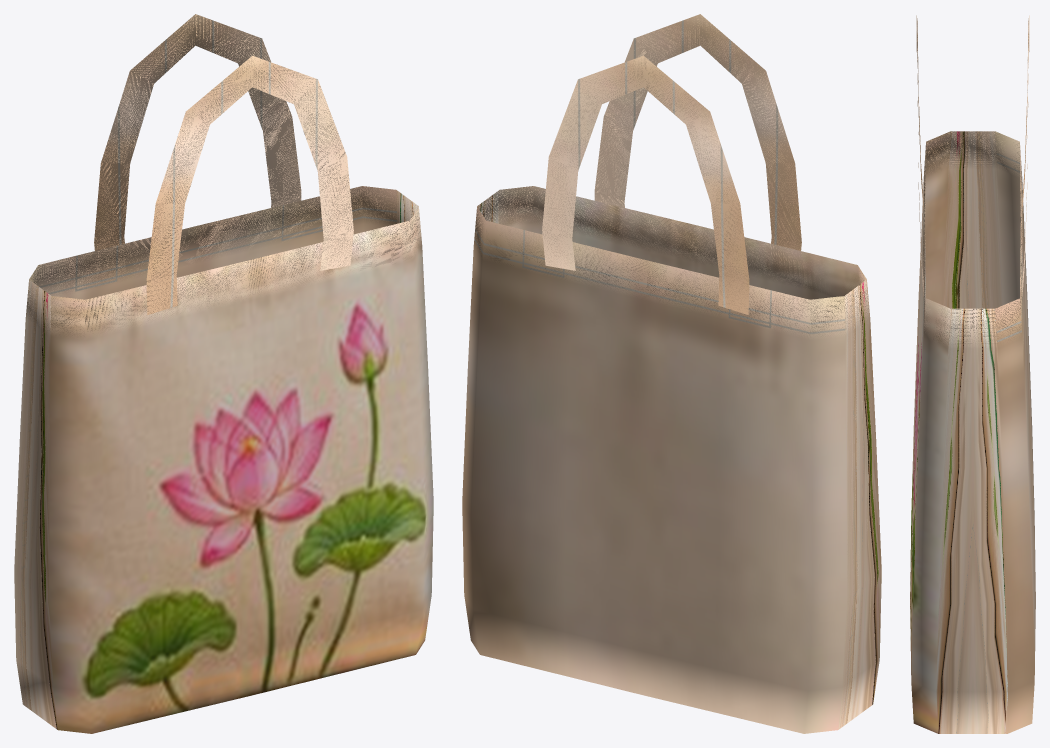
File: tui_vai_theu_sen.obj
The picture shows the model from 3 angles, left to right: view 1: azimuth 30°, elevation 25°; view 2: azimuth 150°, elevation 25°; view 3: azimuth 270°, elevation 25°; orthographic projection.
Parts seen in each view (by area): view 1: Tui_Vai_Theu_Sen; view 2: Tui_Vai_Theu_Sen; view 3: Tui_Vai_Theu_Sen.
Boxes of the visible parts, <box> form: Tui_Vai_Theu_Sen: <box>14,14,433,733</box>; Tui_Vai_Theu_Sen: <box>462,14,881,733</box>; Tui_Vai_Theu_Sen: <box>910,15,1035,733</box>.
Size of the model in its own units: 0.356 by 0.564 by 0.102.
1 material, 1 textured.
